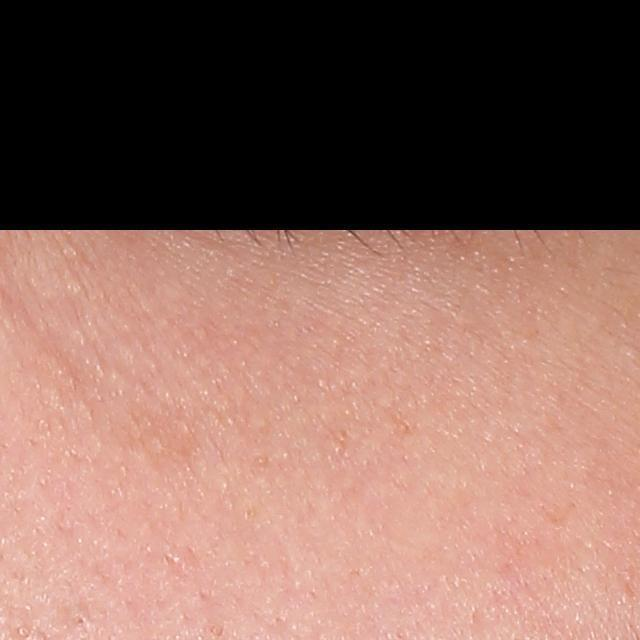comedo: (70, 611, 91, 632)
